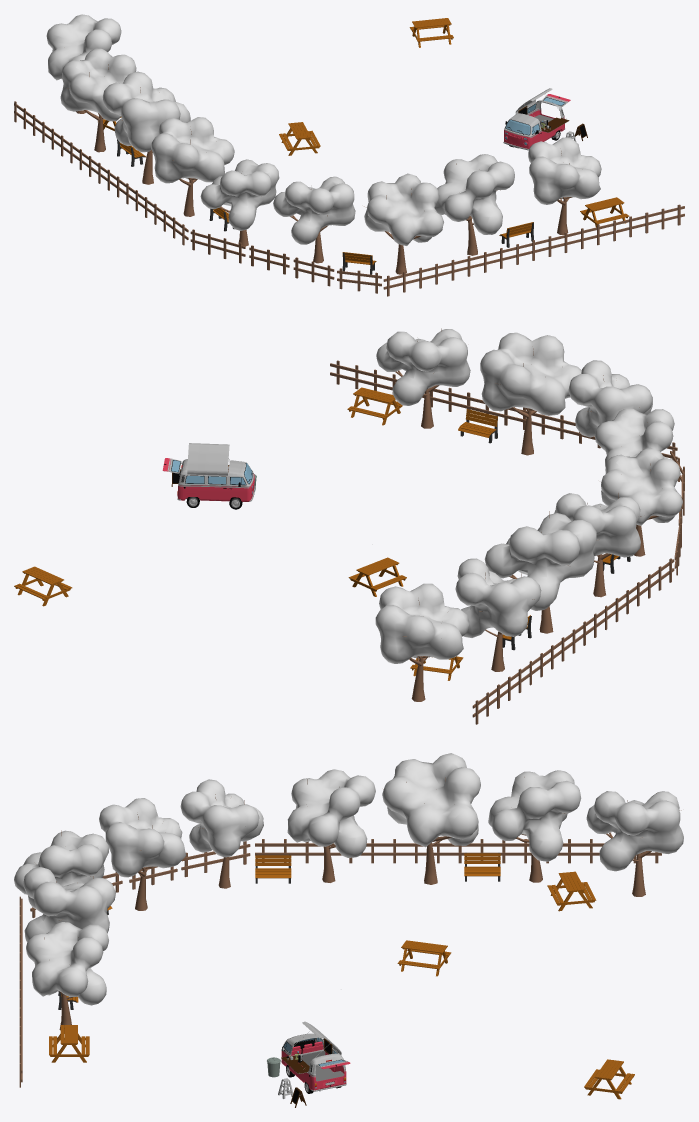
File: cozy-scene2.glb
The picture shows the model from 3 angles, top to bottom: view 1: azimuth 30°, elevation 25°; view 2: azimuth 150°, elevation 25°; view 3: azimuth 270°, elevation 25°; orthographic projection. The views are drawn at different scales.
Parts seen in each view (by area): view 1: foliage, fence, trunk, table-set, Body, bench; view 2: foliage, fence, table-set, trunk, roof, bench, Body; view 3: foliage, fence, table-set, trunk, bench, Body.
Boxes of the visible parts, x1,y1,x2,y2 form: foliage: (46,14,601,245); fence: (14,101,684,296); trunk: (67,64,572,274); table-set: (98,18,629,227); Body: (504,100,564,148); bench: (117,139,533,274); foliage: (375,329,682,663); fence: (330,360,684,724); table-set: (14,387,463,680); trunk: (395,328,658,701); roof: (187,443,229,475); bench: (458,409,630,650); Body: (177,459,254,501); foliage: (14,753,683,1005); fence: (19,839,661,1087); table-set: (49,871,634,1099); trunk: (44,777,681,1030); bench: (58,852,500,1009); Body: (282,1033,346,1090).
Size of the model in its own units: 25.81 by 6.16 by 30.54.
